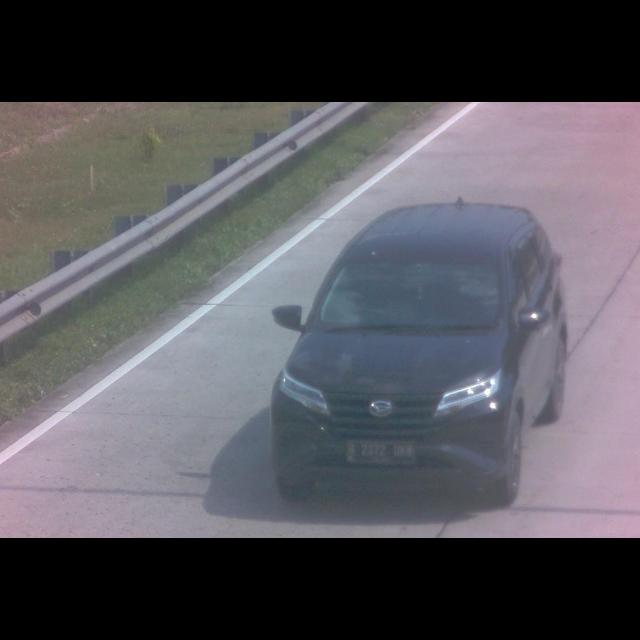plate: (347, 438, 419, 466)
